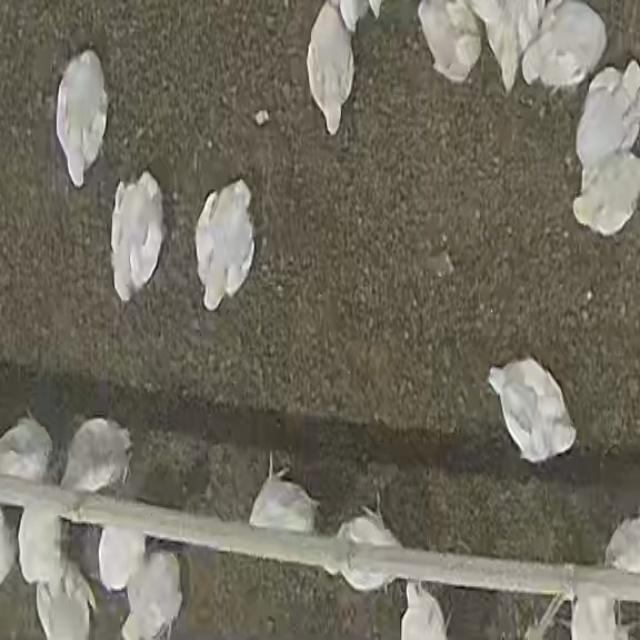chicken: (489, 358, 576, 462), (520, 2, 608, 92), (462, 1, 547, 90), (195, 182, 253, 309), (113, 176, 170, 304), (55, 52, 108, 187), (574, 62, 640, 167), (305, 3, 356, 136), (334, 501, 407, 593), (120, 548, 183, 640), (248, 455, 320, 534), (573, 154, 640, 238), (60, 418, 132, 496), (418, 1, 482, 85), (17, 505, 69, 589), (36, 566, 93, 640), (0, 416, 55, 484), (96, 526, 146, 592), (605, 512, 640, 576)
